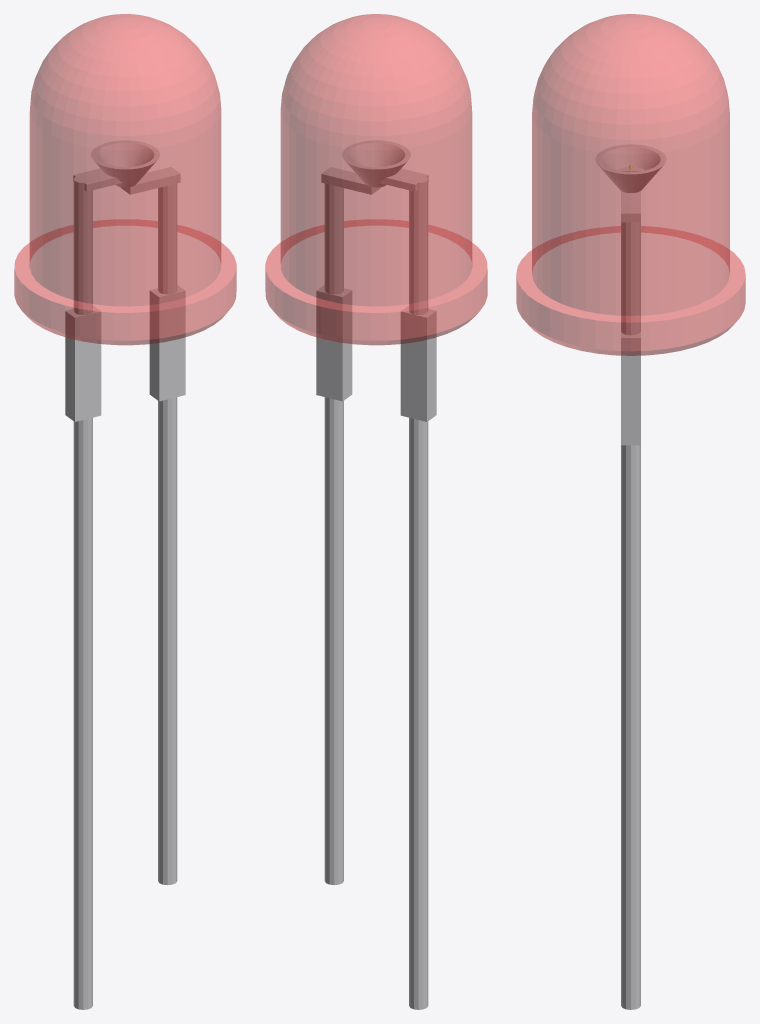
The model's file is LED_Rojo_5mm.glb.
3 views of the same model, side by side, from view 1: azimuth 30°, elevation 25°; view 2: azimuth 150°, elevation 25°; view 3: azimuth 270°, elevation 25° (orthographic). The views are drawn at different scales.
Parts seen in each view (by area): view 1: Cuerpo_LED, Pata_Anodo, Pata_Catodo, Hombro_Catodo, Hombro_Anodo, Copa_Reflectora, Brazo_Copa_Catodo, Yunque_Anodo; view 2: Cuerpo_LED, Pata_Anodo, Pata_Catodo, Hombro_Catodo, Hombro_Anodo, Copa_Reflectora, Brazo_Copa_Catodo, Yunque_Anodo; view 3: Cuerpo_LED, Pata_Catodo, Copa_Reflectora, Hombro_Catodo, Pata_Anodo, Brazo_Copa_Catodo.
Boxes of the visible parts, bbox=[...] form: Cuerpo_LED: bbox=[14, 14, 236, 345]; Pata_Anodo: bbox=[73, 175, 92, 1009]; Pata_Catodo: bbox=[158, 175, 177, 885]; Hombro_Catodo: bbox=[149, 285, 185, 401]; Hombro_Anodo: bbox=[65, 305, 101, 421]; Copa_Reflectora: bbox=[91, 140, 159, 187]; Brazo_Copa_Catodo: bbox=[120, 167, 180, 194]; Yunque_Anodo: bbox=[73, 165, 122, 191]; Cuerpo_LED: bbox=[265, 14, 487, 345]; Pata_Anodo: bbox=[409, 175, 428, 1009]; Pata_Catodo: bbox=[324, 183, 343, 885]; Hombro_Catodo: bbox=[316, 285, 352, 401]; Hombro_Anodo: bbox=[400, 305, 436, 421]; Copa_Reflectora: bbox=[342, 140, 410, 187]; Brazo_Copa_Catodo: bbox=[321, 167, 381, 194]; Yunque_Anodo: bbox=[379, 165, 428, 191]; Cuerpo_LED: bbox=[516, 14, 745, 355]; Pata_Catodo: bbox=[621, 205, 640, 944]; Copa_Reflectora: bbox=[595, 144, 666, 192]; Hombro_Catodo: bbox=[621, 332, 640, 445]; Pata_Anodo: bbox=[621, 941, 640, 1009]; Brazo_Copa_Catodo: bbox=[621, 191, 640, 222].
Bounding box in the file's own units: 0.0058 × 0.028 × 0.0058.
